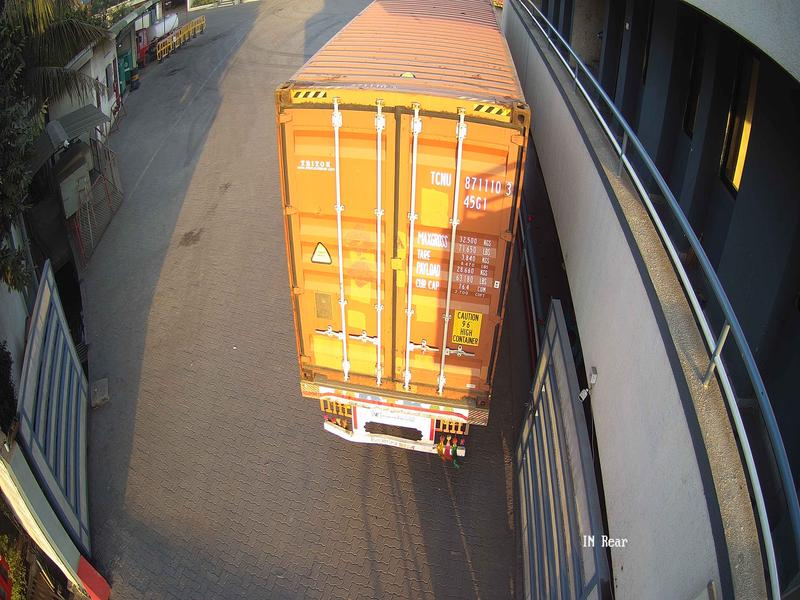container: (271, 72, 529, 425)
